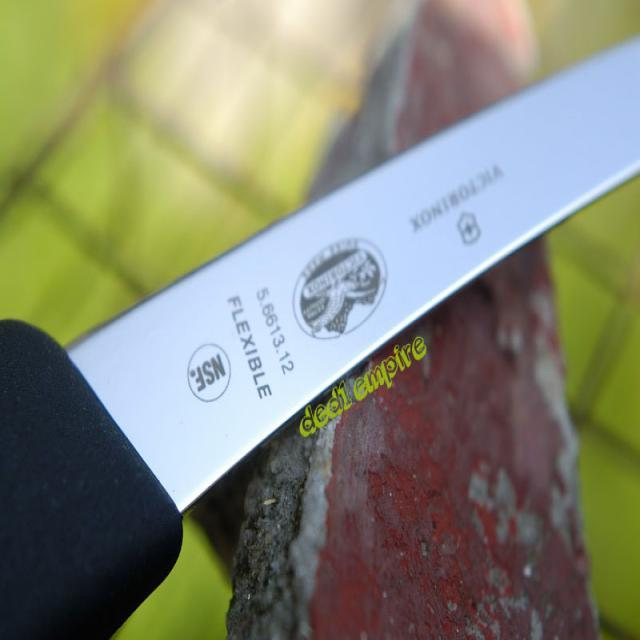Pisau: (2, 26, 638, 633)
